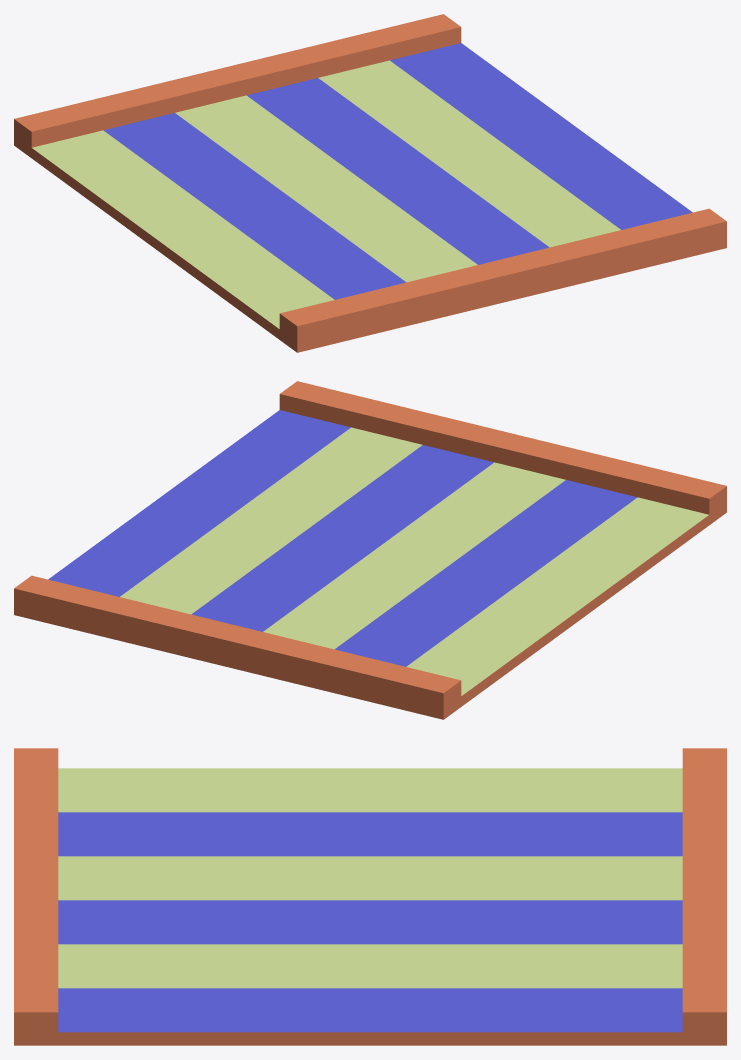
Rendered from Zemin (4).fbx.
The picture shows the model from 3 angles, top to bottom: view 1: azimuth 30°, elevation 25°; view 2: azimuth 150°, elevation 25°; view 3: azimuth 270°, elevation 25°; orthographic projection. The views are drawn at different scales.
Visible parts, largest first — view 1: Cube; view 2: Cube; view 3: Cube.
Boxes of the visible parts, x1,y1,x2,y2 form: Cube: (14, 14, 726, 352); Cube: (14, 381, 726, 719); Cube: (14, 748, 726, 1045).
Size of the model in its own units: 282 by 16.65 by 322.
